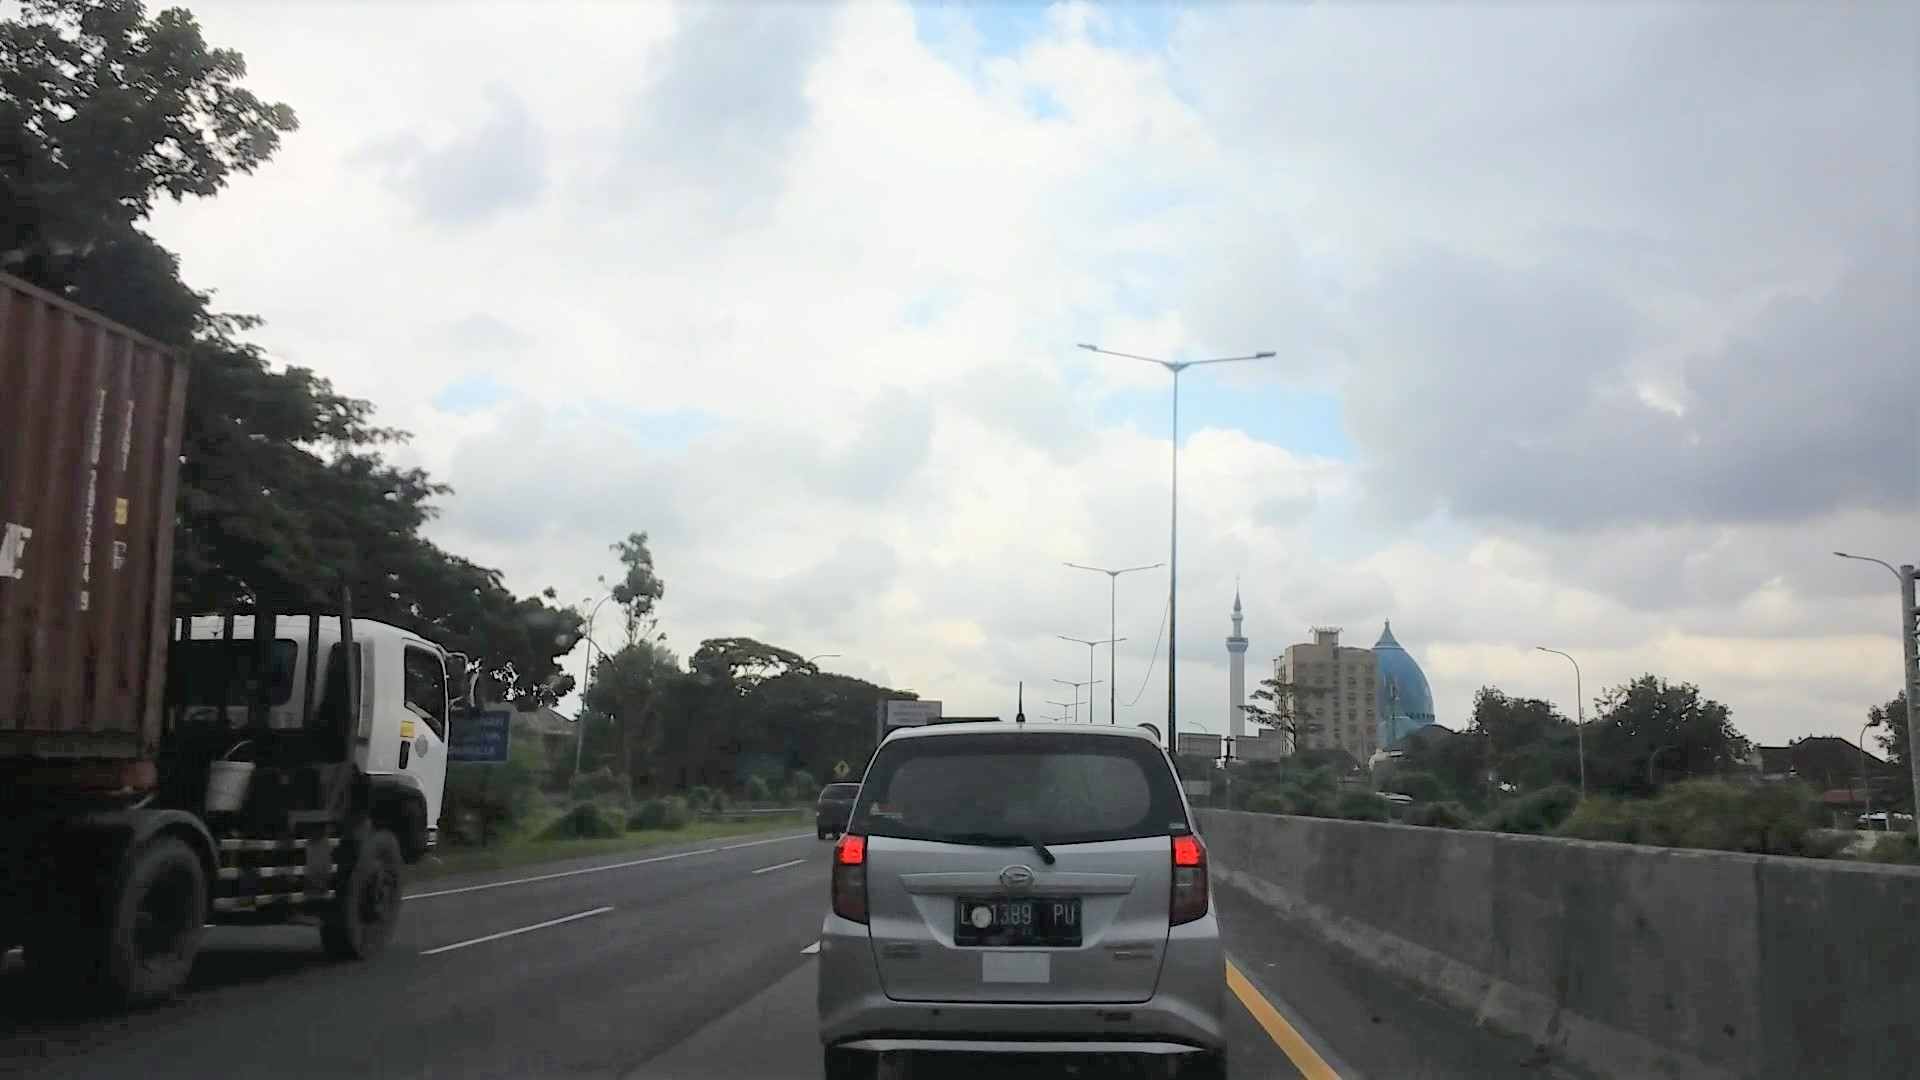plate_positive: (953, 894, 1083, 945)
